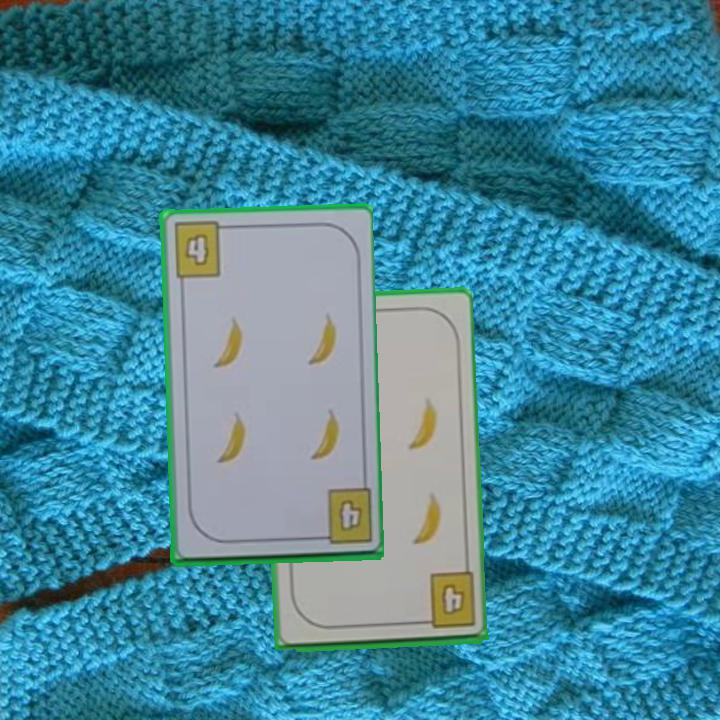4b: (413, 569, 479, 632), (310, 485, 375, 548), (170, 218, 232, 281)
